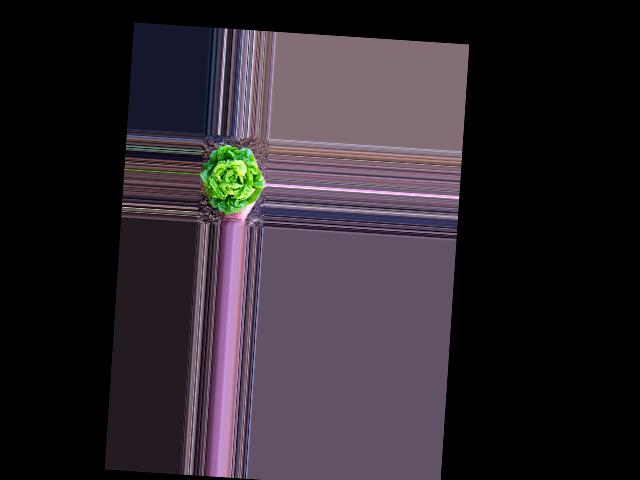lettuce: (199, 142, 265, 211)
